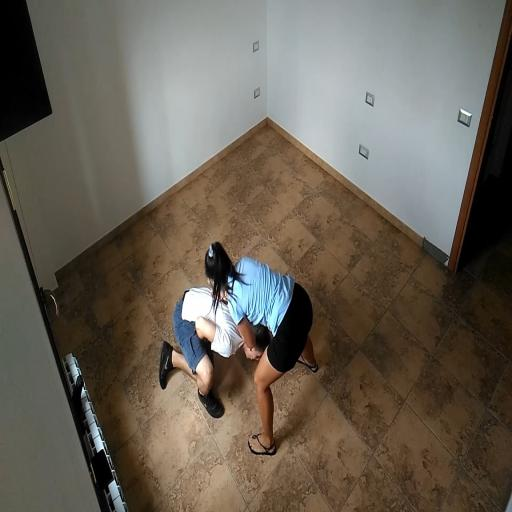violencia: (138, 222, 334, 477)
